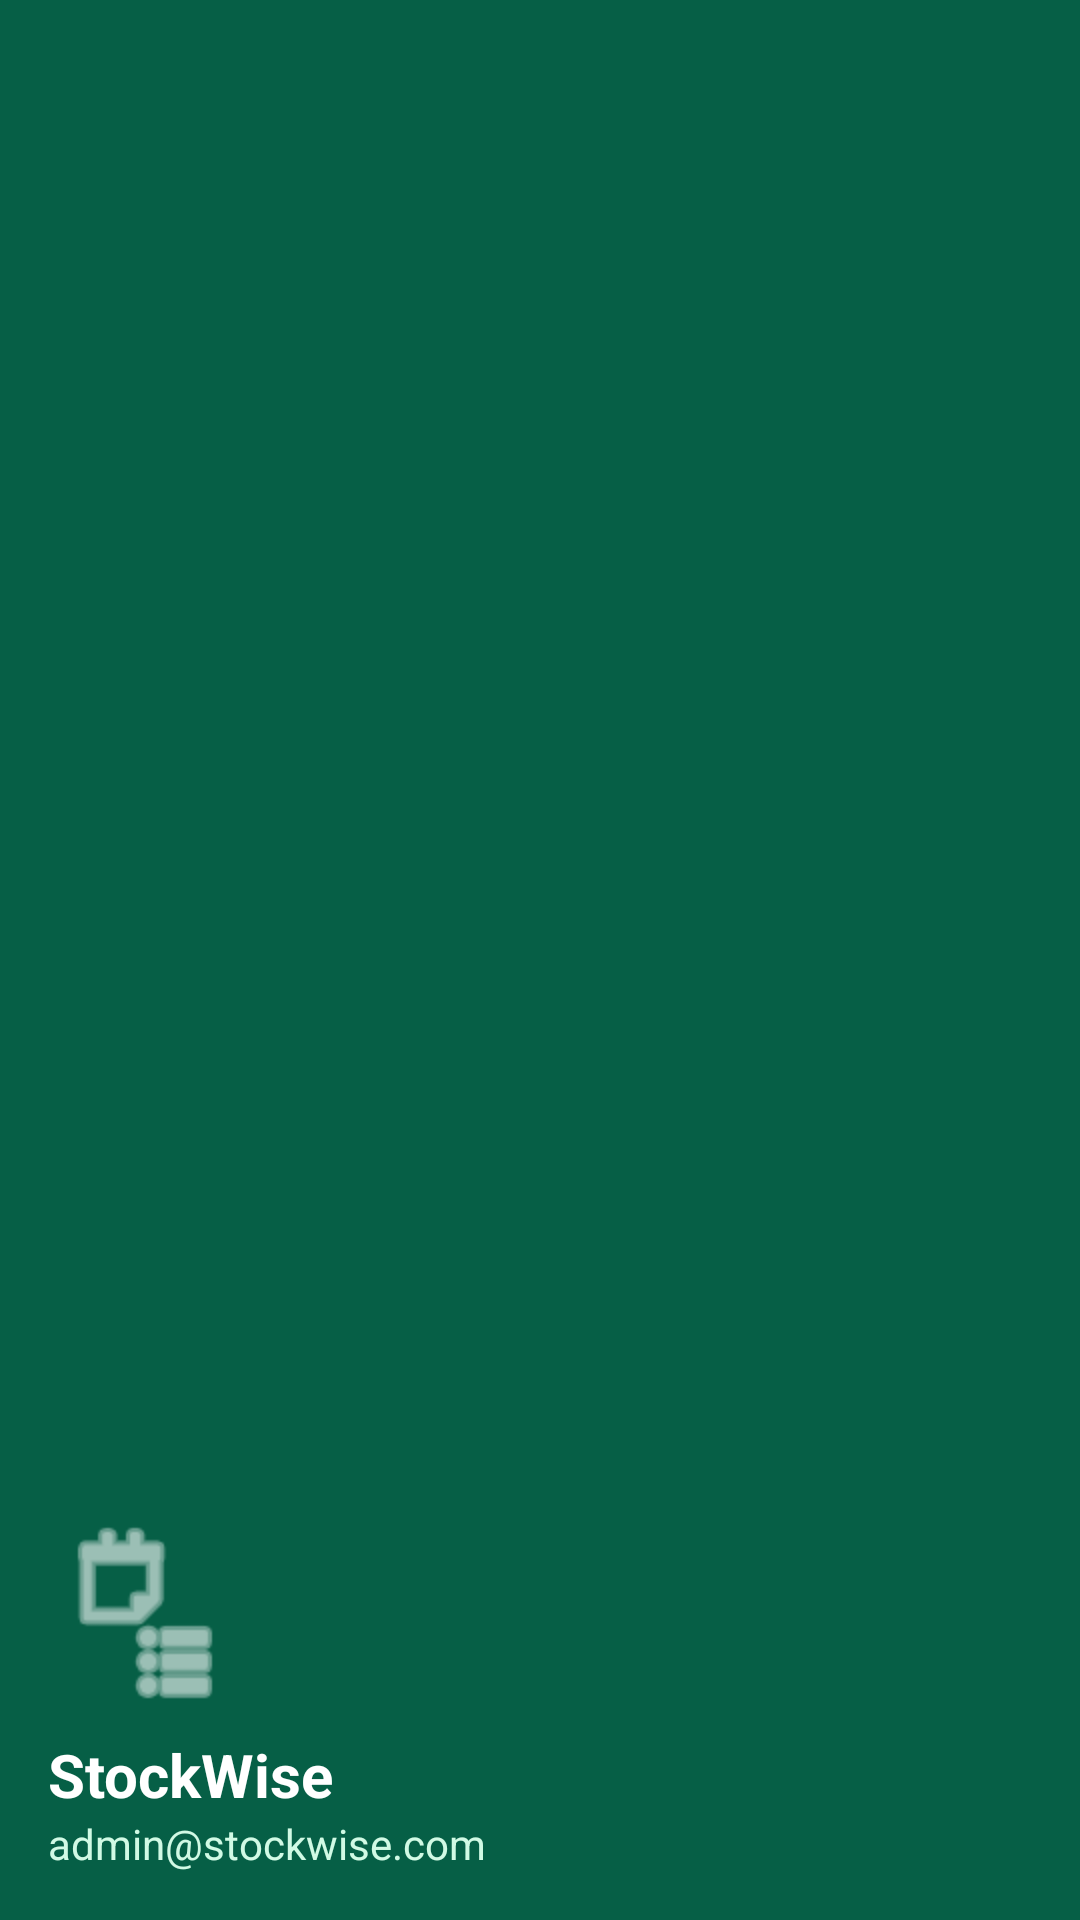

Point at icon controls on the screen. Image size 1080 × 1920, points as point (x, y).
agenda: point (145, 1612)
